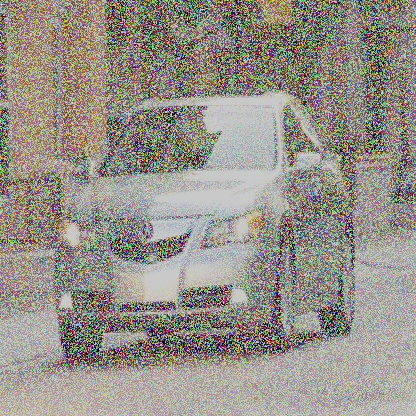Vehicle: (50, 83, 362, 362)
